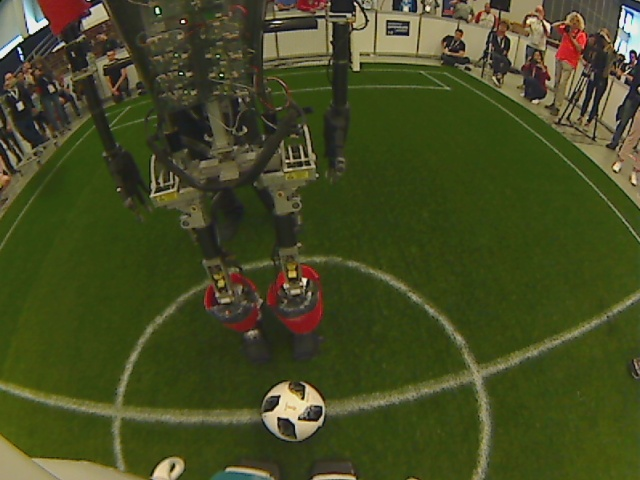ball: (254, 376, 328, 447)
